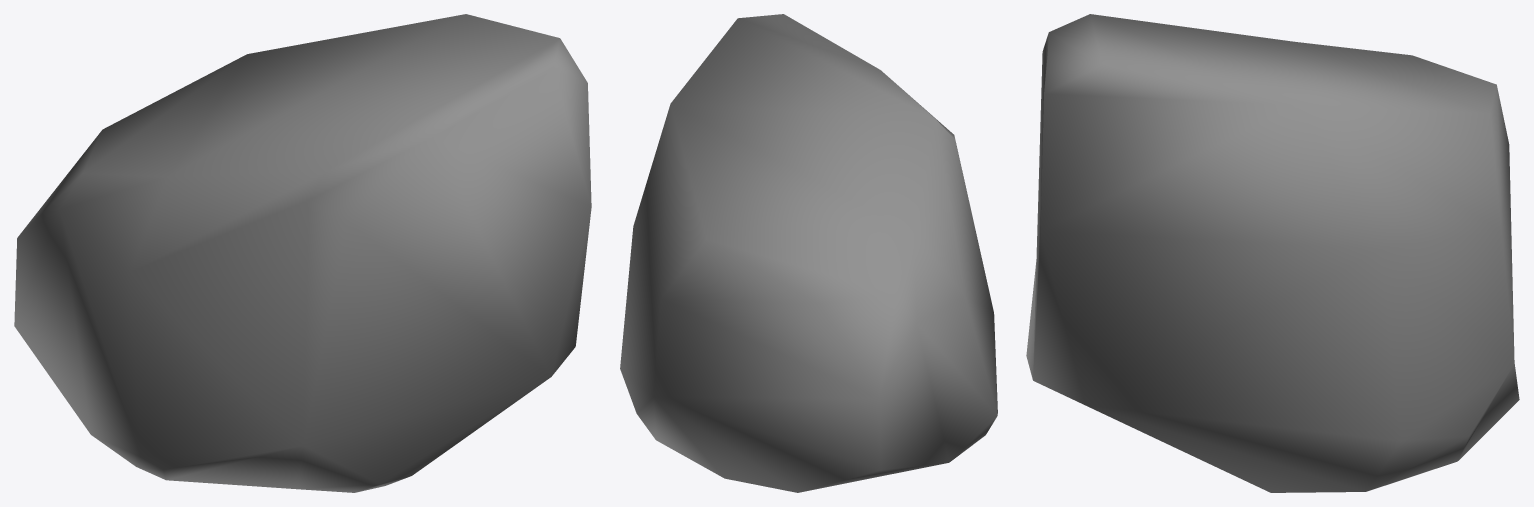
The picture shows the model from 3 angles, left to right: view 1: azimuth 30°, elevation 25°; view 2: azimuth 150°, elevation 25°; view 3: azimuth 270°, elevation 25°; orthographic projection. The views are drawn at different scales.
Parts seen in each view (by area): view 1: submesh_0; view 2: submesh_0; view 3: submesh_0.
Boxes of the visible parts, box(x1,y1,x2,y2) form: submesh_0: box(14, 14, 591, 492); submesh_0: box(620, 14, 997, 492); submesh_0: box(1026, 14, 1519, 492).
Size of the model in its own units: 0.894 by 0.8762 by 0.9102.
Materials: 1 (1 with a texture image).
